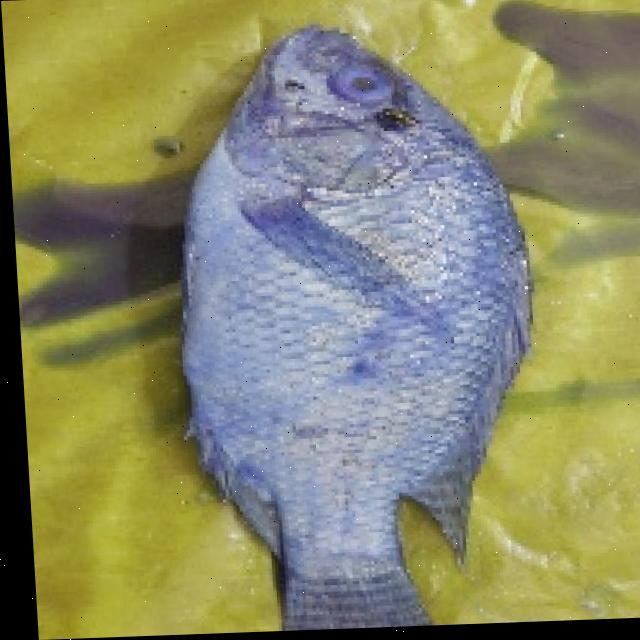Non-Fresh: (138, 7, 549, 611)
